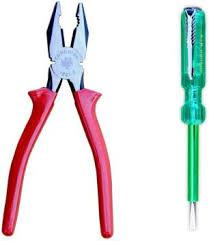pliers: (0, 0, 114, 237)
